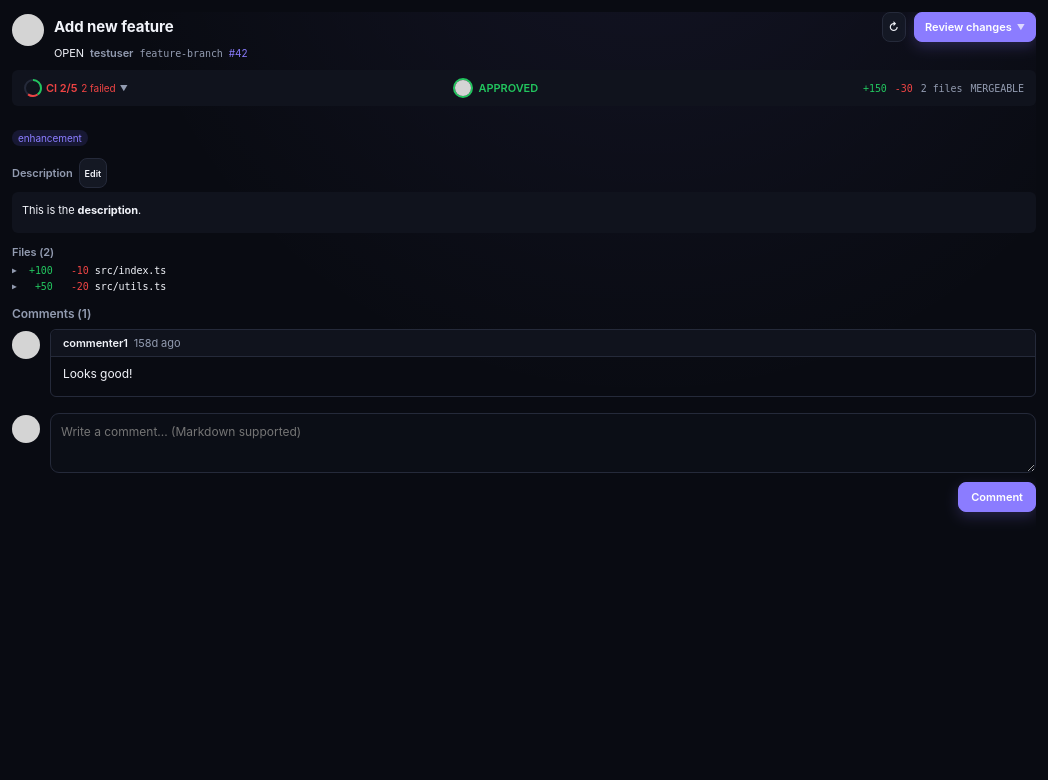
Test: PRDetail › description editor Cancel reverts
The width and height of the screenshot is (1048, 780).
Click the button "Edit" at {"x": 93, "y": 173}, box [79, 158, 107, 188]
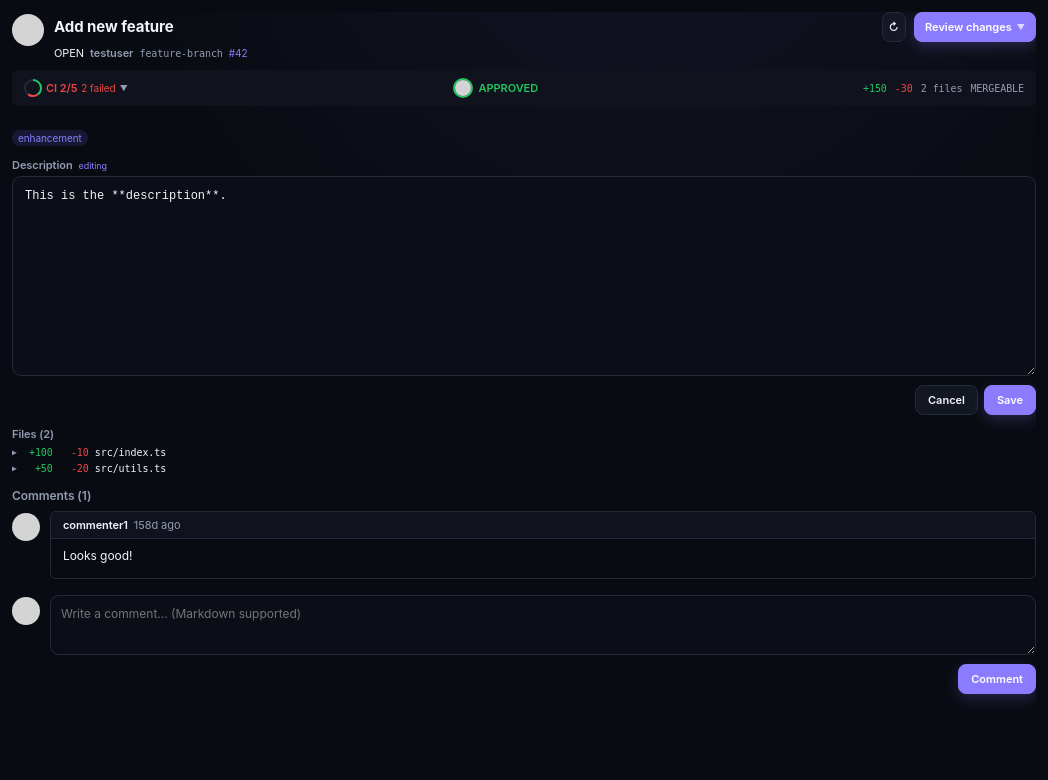
Check: the text "editing" is shown, box [79, 160, 107, 170]
Click Cancel
Click the button "Cancel" at {"x": 946, "y": 400}, box [915, 385, 978, 415]
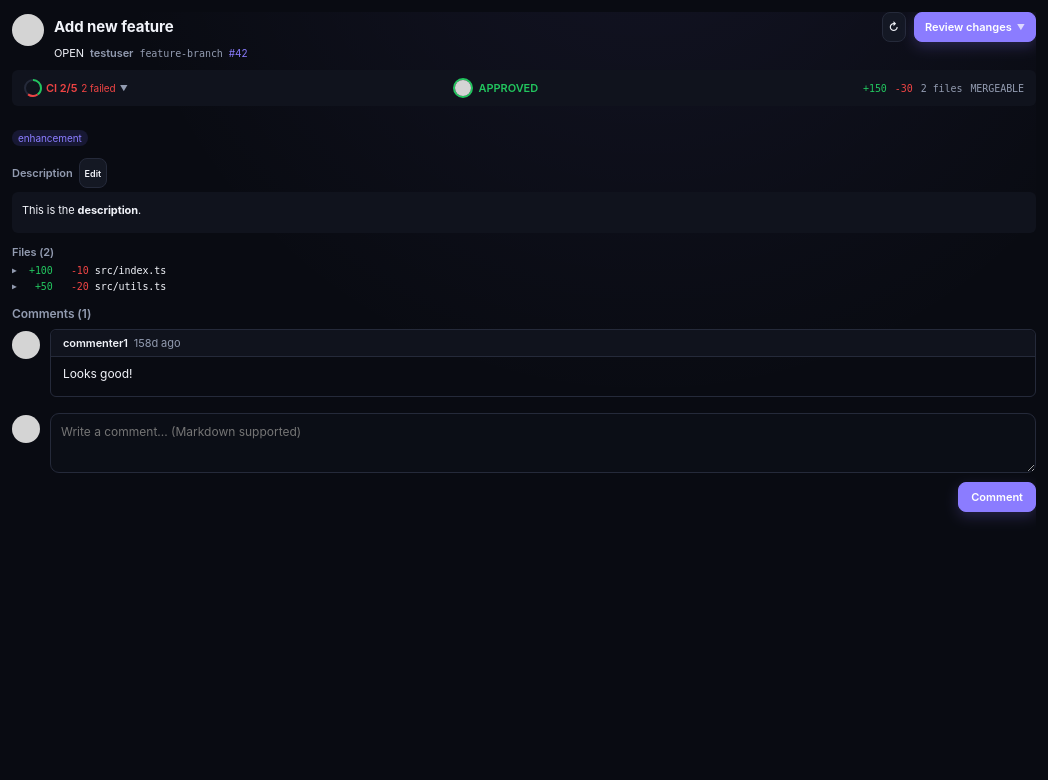
Check: the text "editing" is gone
